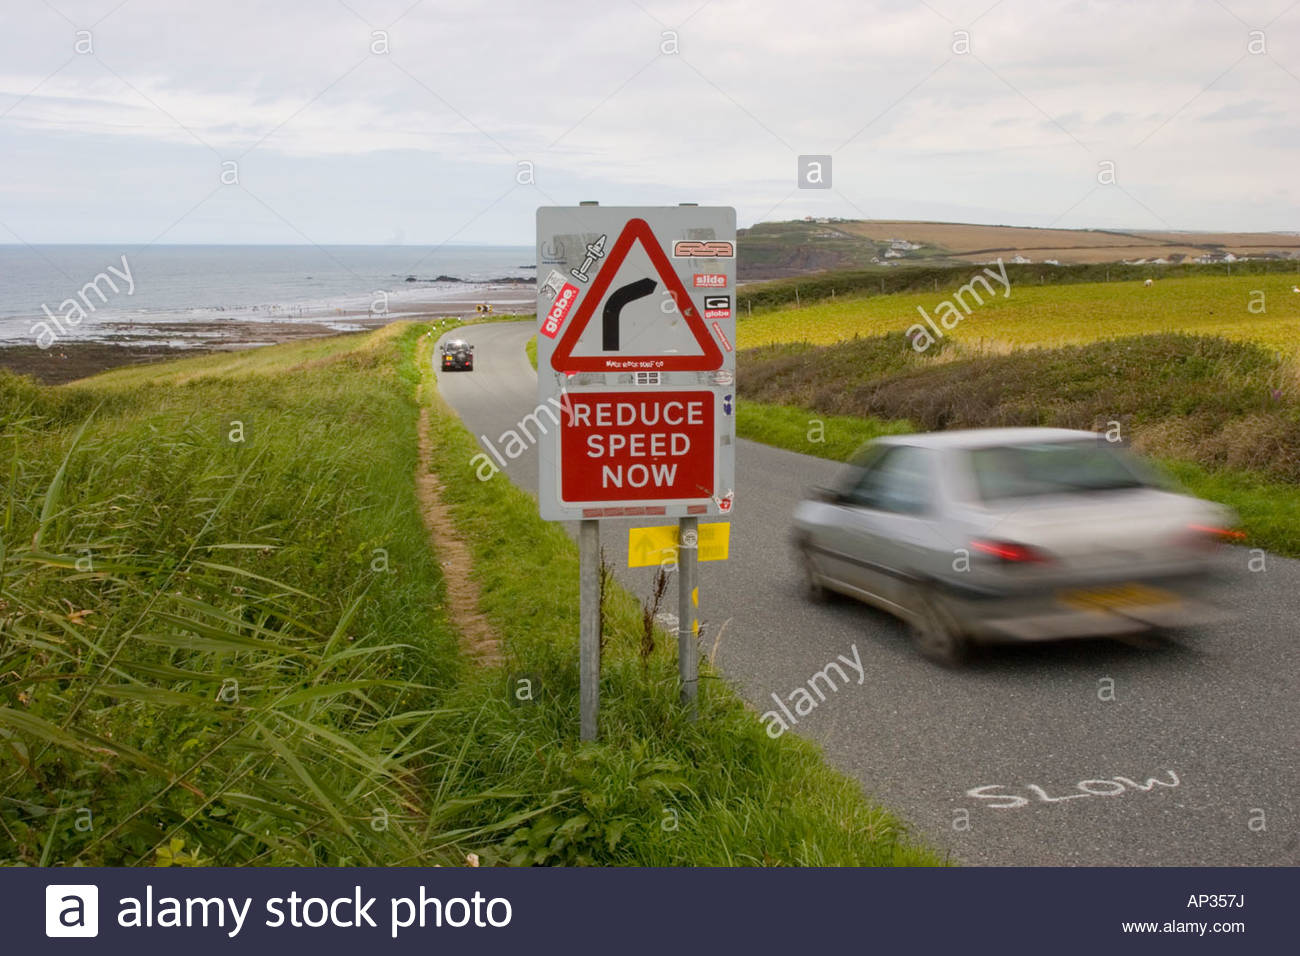Bend_to_right: (551, 213, 729, 377)
